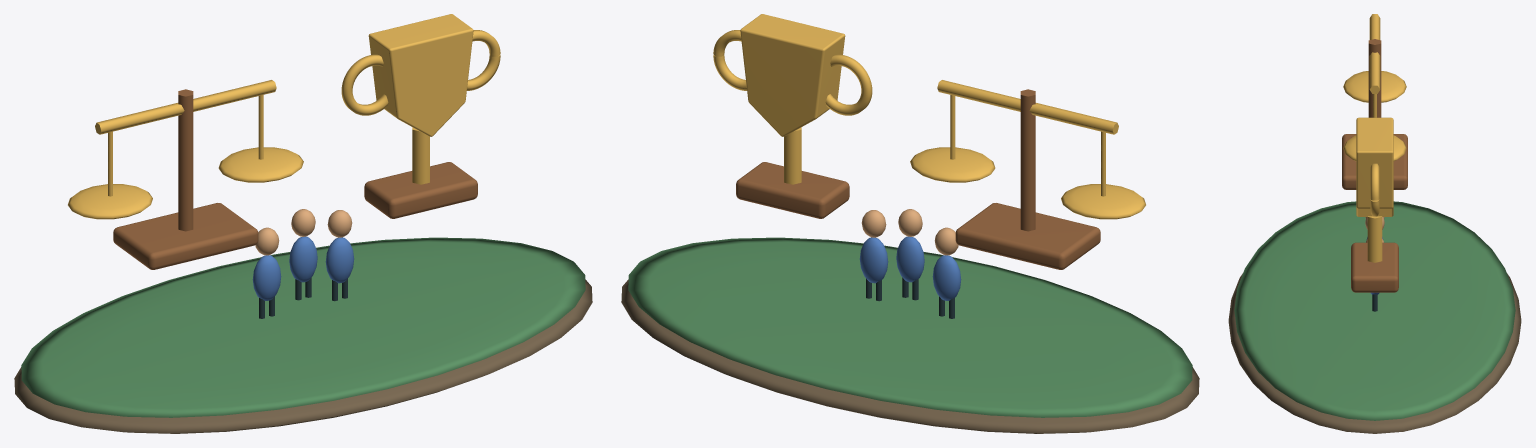
File: complete-first-competition-prize.glb
3 renders of one model, left to right at view 1: azimuth 30°, elevation 25°; view 2: azimuth 150°, elevation 25°; view 3: azimuth 270°, elevation 25°, orthographic. The views are drawn at different scales.
Parts seen in each view (by area): view 1: complete-first-competition-prize_surface_01, complete-first-competition-prize_surface_03, complete-first-competition-prize_surface_02, complete-first-competition-prize_surface_00, complete-first-competition-prize_surface_05, complete-first-competition-prize_surface_04, complete-first-competition-prize_surface_06; view 2: complete-first-competition-prize_surface_01, complete-first-competition-prize_surface_03, complete-first-competition-prize_surface_02, complete-first-competition-prize_surface_00, complete-first-competition-prize_surface_05, complete-first-competition-prize_surface_04, complete-first-competition-prize_surface_06; view 3: complete-first-competition-prize_surface_01, complete-first-competition-prize_surface_03, complete-first-competition-prize_surface_00, complete-first-competition-prize_surface_02.
Part boxes in pixels (x1,y1,x2,y2): complete-first-competition-prize_surface_01: (21,237,585,417); complete-first-competition-prize_surface_03: (68,14,500,219); complete-first-competition-prize_surface_02: (113,89,477,269); complete-first-competition-prize_surface_00: (14,279,592,433); complete-first-competition-prize_surface_05: (252,236,354,300); complete-first-competition-prize_surface_04: (255,209,352,255); complete-first-competition-prize_surface_06: (259,277,347,318); complete-first-competition-prize_surface_01: (628,237,1192,417); complete-first-competition-prize_surface_03: (713,14,1145,219); complete-first-competition-prize_surface_02: (736,89,1100,269); complete-first-competition-prize_surface_00: (621,279,1199,433); complete-first-competition-prize_surface_05: (859,236,961,300); complete-first-competition-prize_surface_04: (861,209,958,255); complete-first-competition-prize_surface_06: (866,277,954,318); complete-first-competition-prize_surface_01: (1234,201,1515,420); complete-first-competition-prize_surface_03: (1343,14,1406,262); complete-first-competition-prize_surface_00: (1228,273,1521,433); complete-first-competition-prize_surface_02: (1342,39,1407,292).
Bounding box in the file's own units: 4.56 × 2.34 × 2.5.
